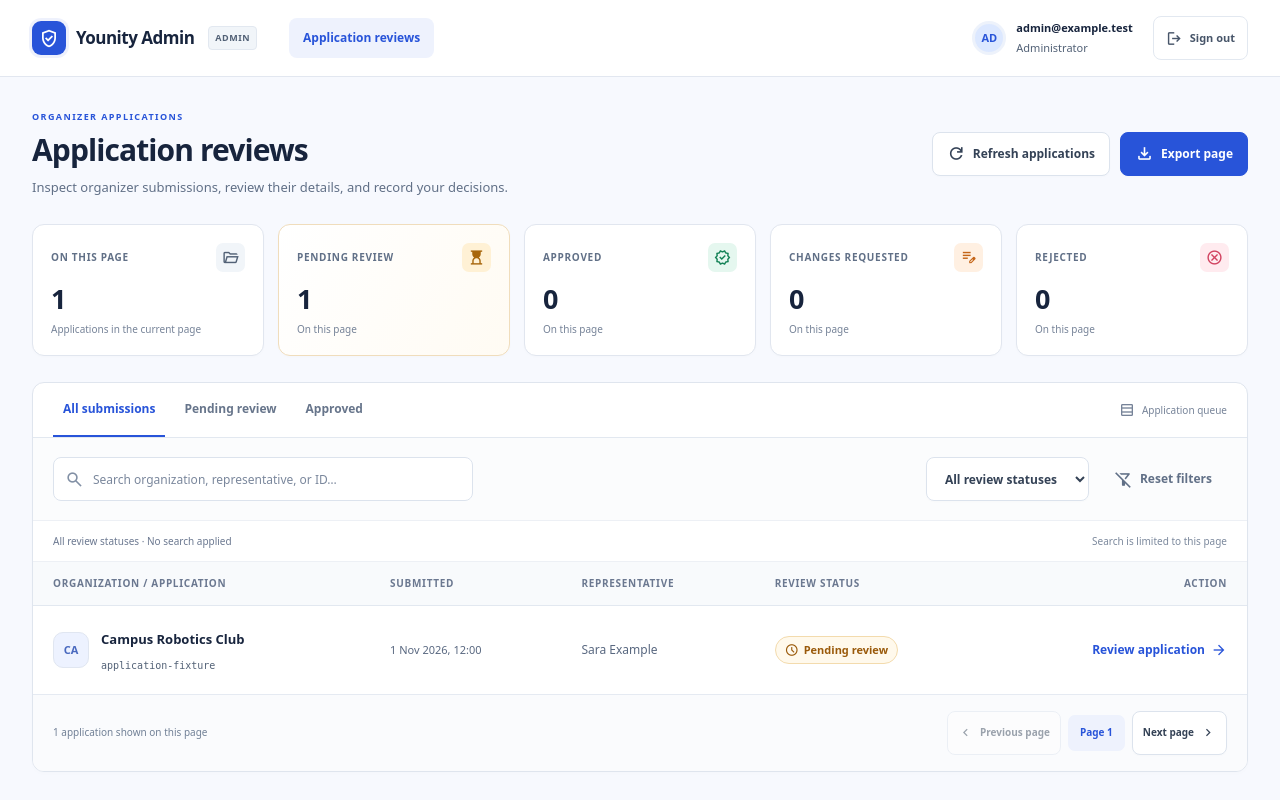
Test: application list › connects status buttons to the agreed filter selection and clears the old page
This screenshot has width=1280, height=800.
What coordinates should you click on to do the following:
click the button "Approved"
I would click on:
 (334, 410)
Its box is [296,384,373,438].
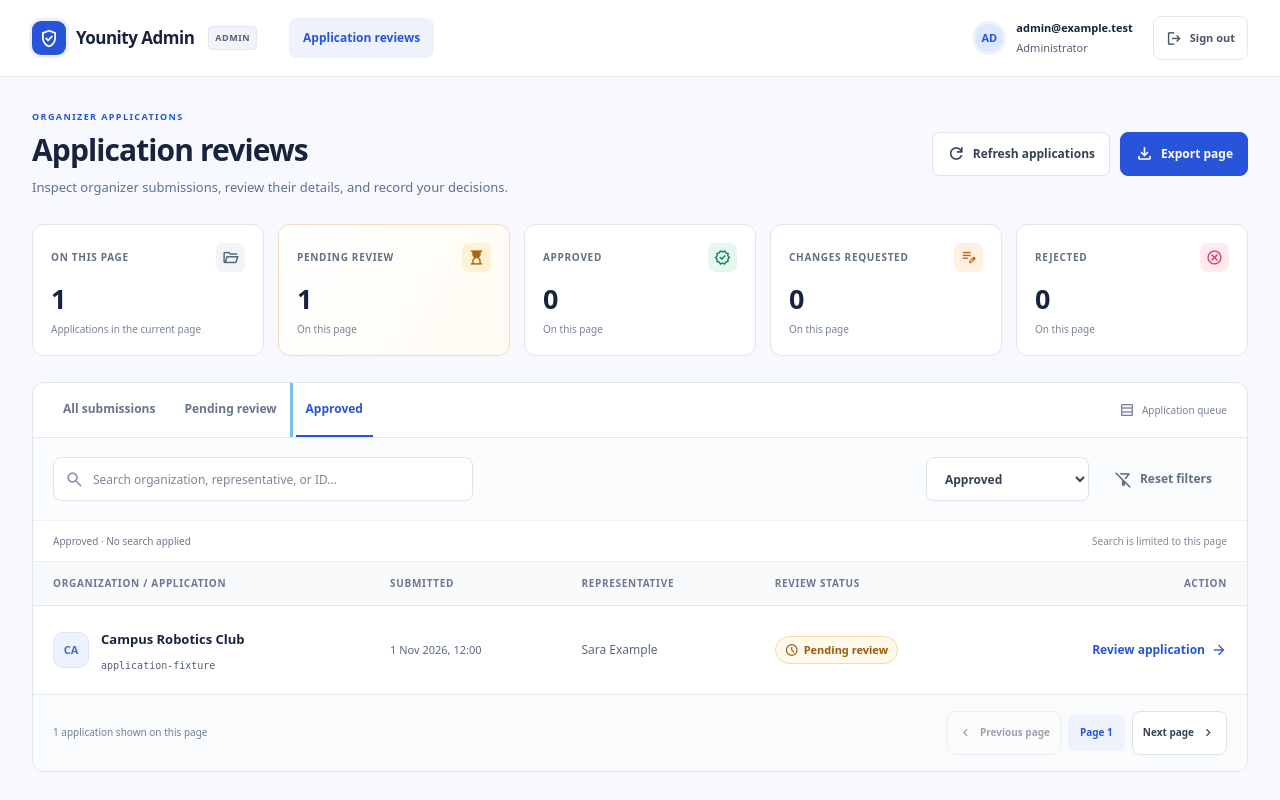
Now the dropdown named "Review status" shows "Approved", box [926,458,1089,502]
